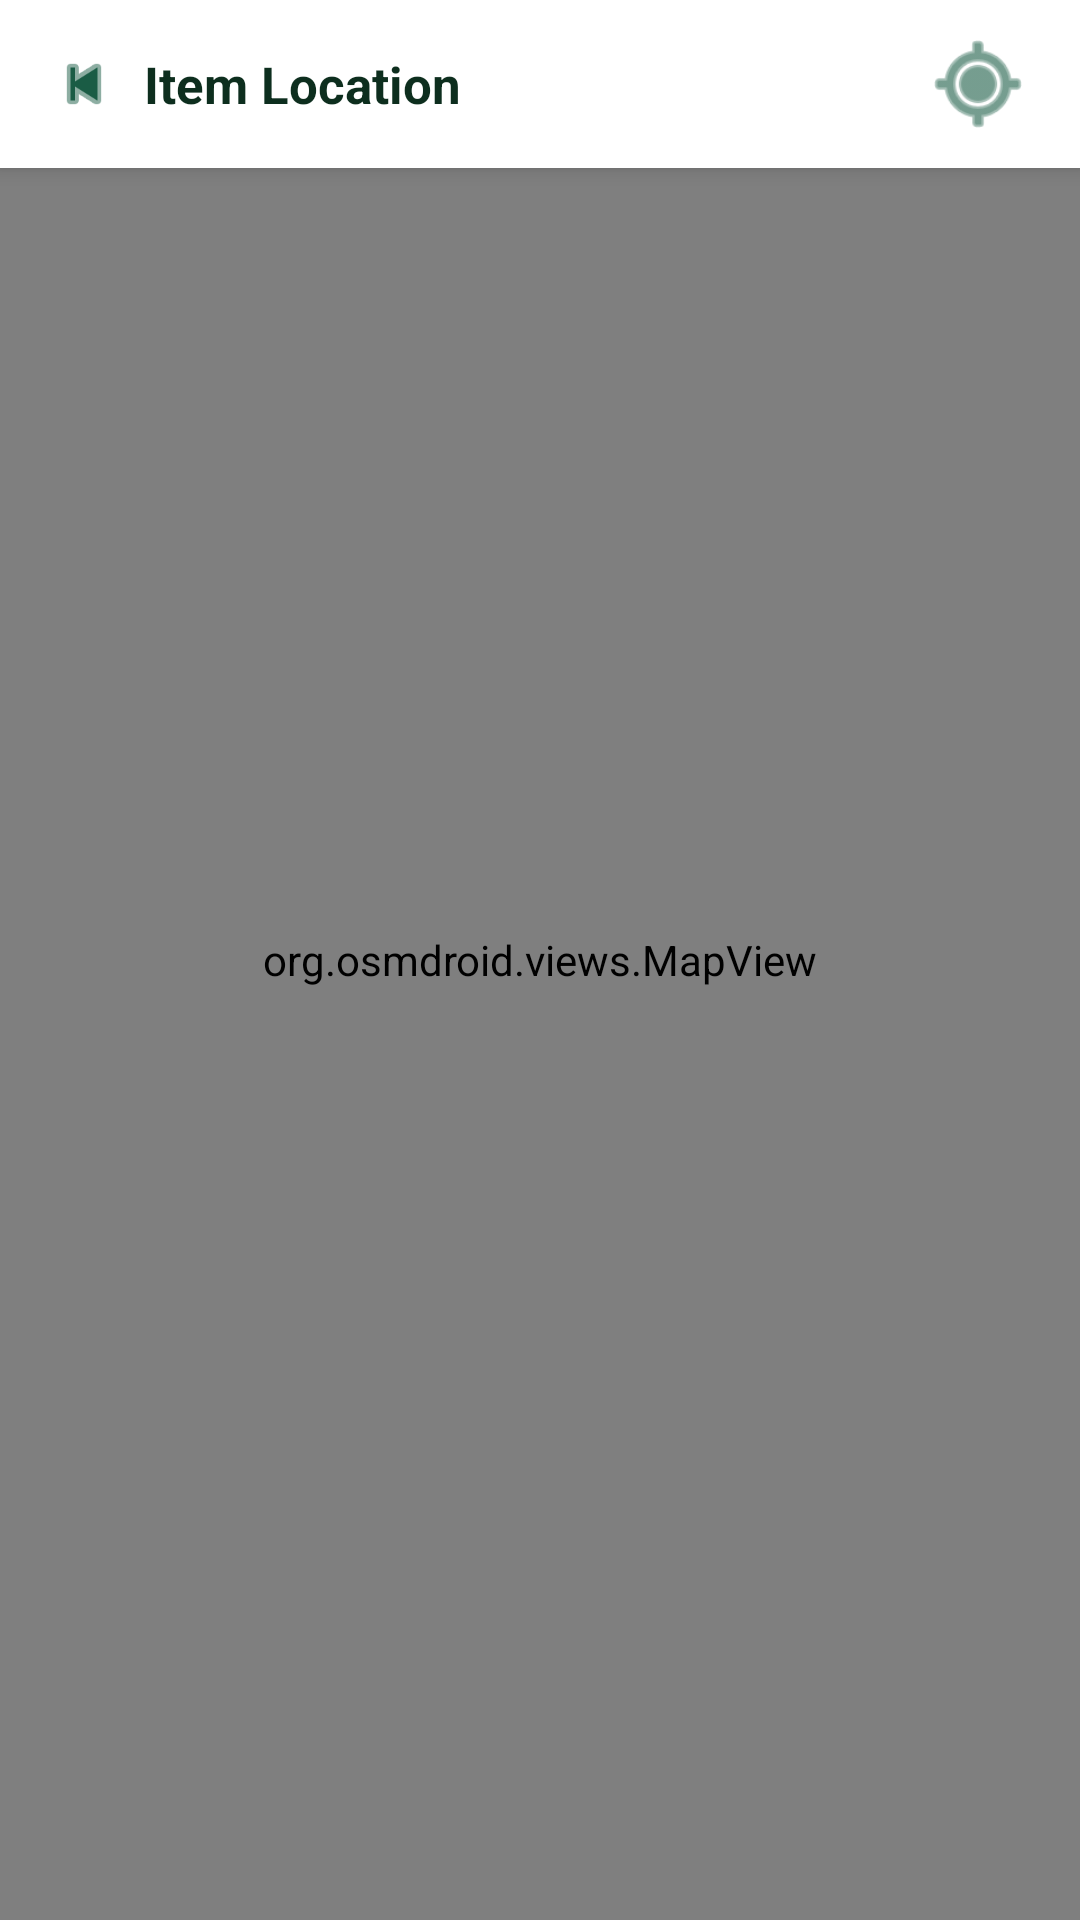

Icons on this 1080w x 1920h Android screen, each with the point to tap as (x,y):
mylocation: (978,84)
previous: (84,84)
